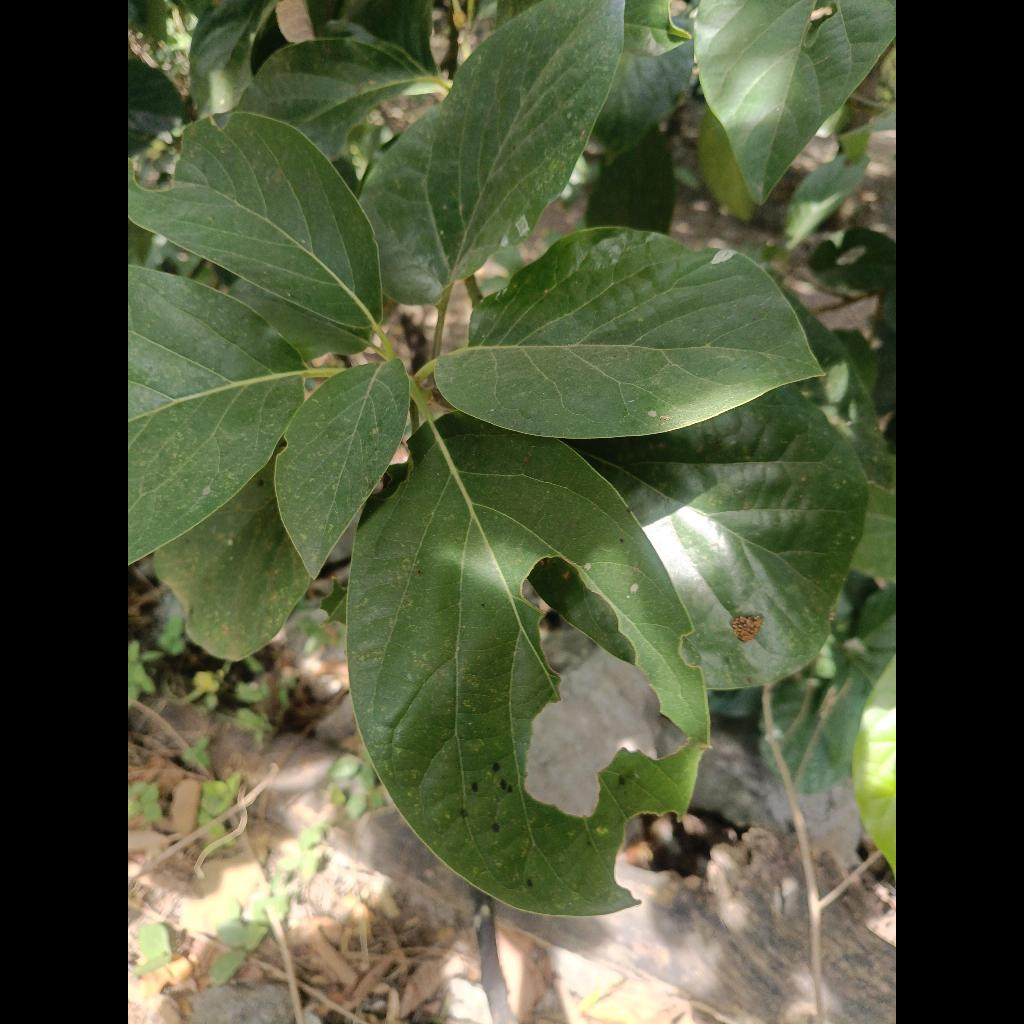Pest Infested: (347, 413, 708, 916)
